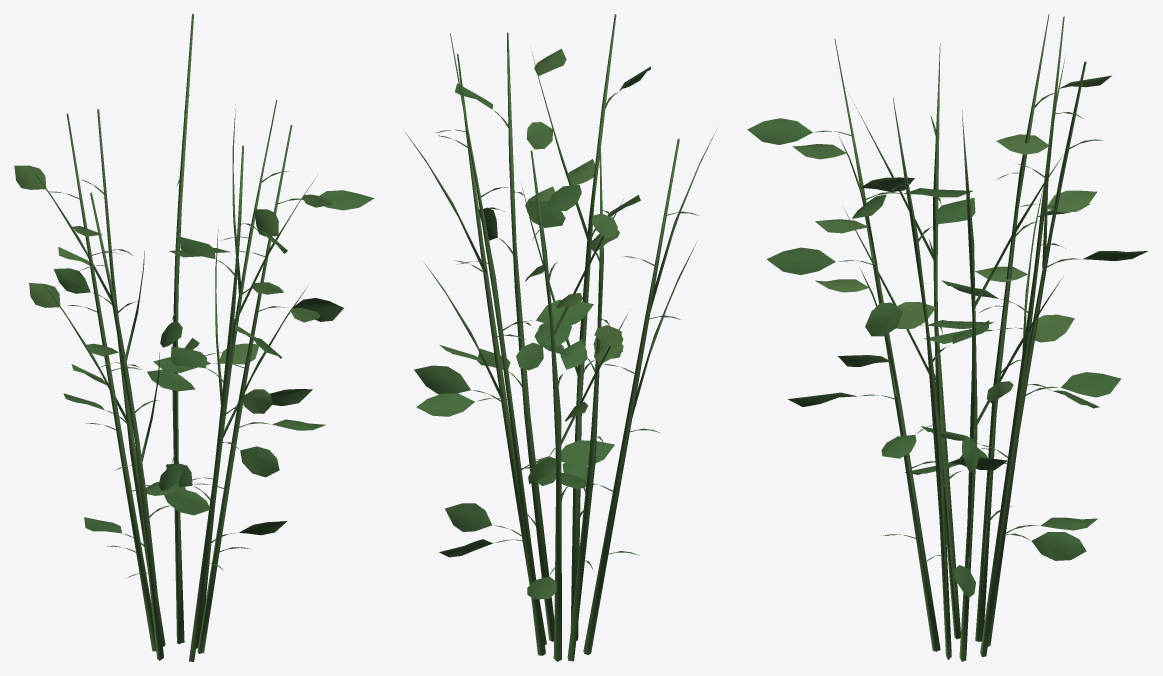
File: Fragon_2_Niveau1.fbx
The picture shows the model from 3 angles, left to right: view 1: azimuth 30°, elevation 25°; view 2: azimuth 150°, elevation 25°; view 3: azimuth 270°, elevation 25°; orthographic projection. The views are drawn at different scales.
Parts seen in each view (by area): view 1: Fragon_2_Niveau1; view 2: Fragon_2_Niveau1; view 3: Fragon_2_Niveau1.
Part boxes in pixels (x1,y1,x2,y2): Fragon_2_Niveau1: (14, 14, 374, 661); Fragon_2_Niveau1: (405, 14, 717, 661); Fragon_2_Niveau1: (747, 14, 1147, 661).
Bounding box in the file's own units: 26.52 × 57.47 × 31.42.
